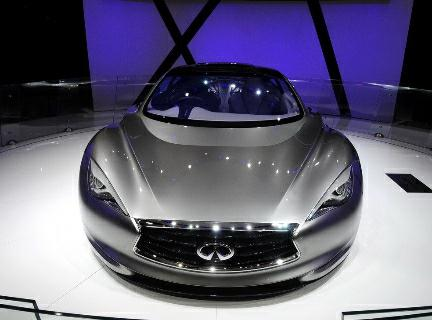英菲尼迪-Emerg-E: (73, 63, 369, 295)
